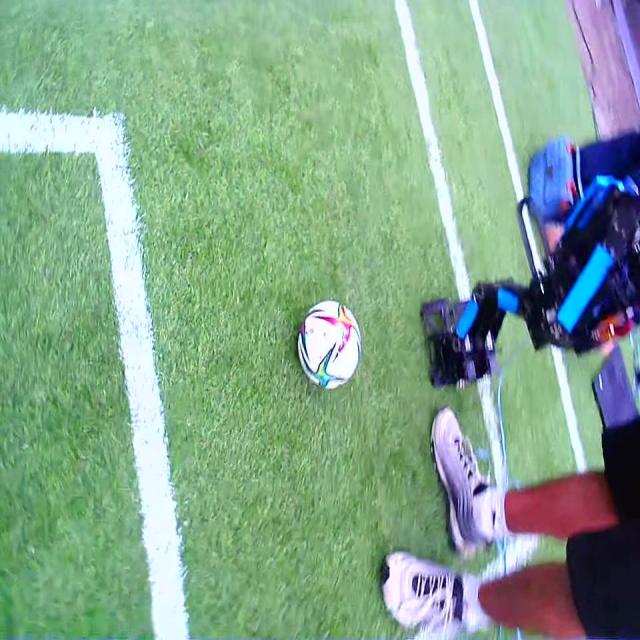ball: (295, 301, 363, 391)
